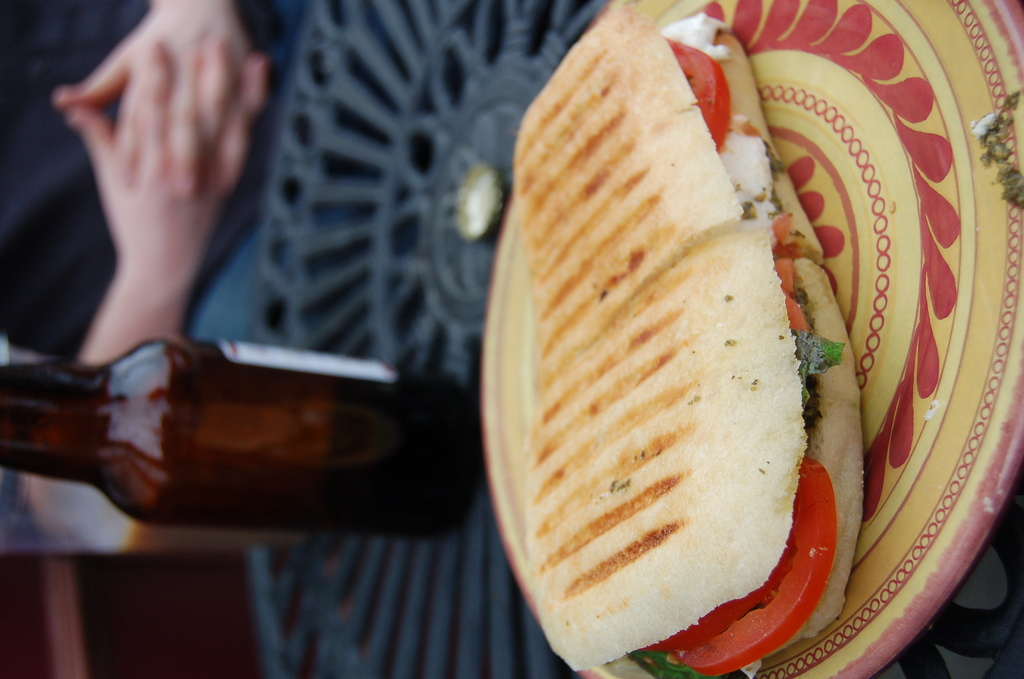sandwich: (512, 6, 863, 678)
